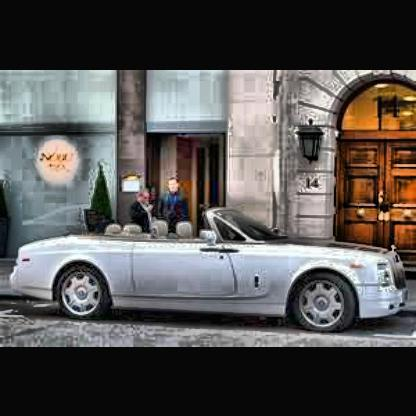Rolls-Royce Phantom Drophead Coupe Convertible 2012: (14, 208, 411, 335)
